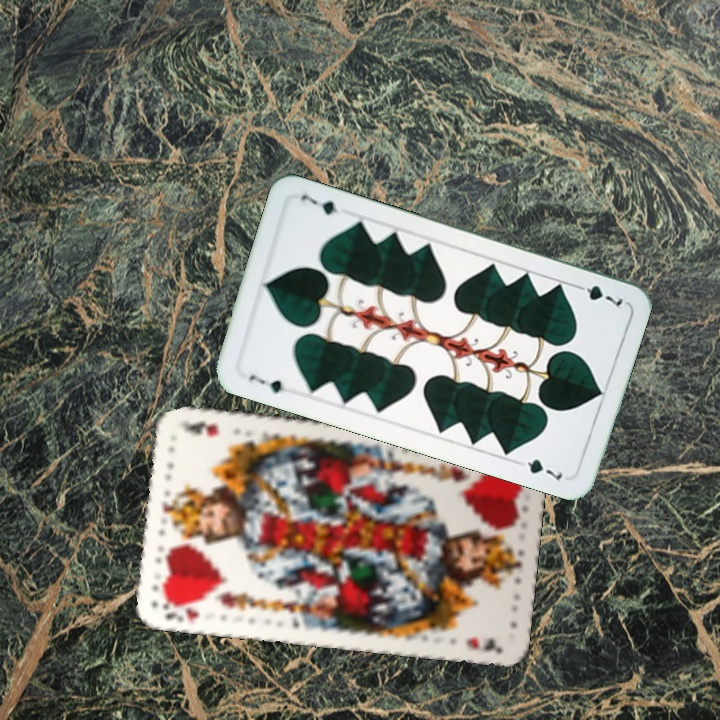G7: (569, 280, 626, 310), (244, 370, 287, 396)
HK: (158, 595, 203, 625)
